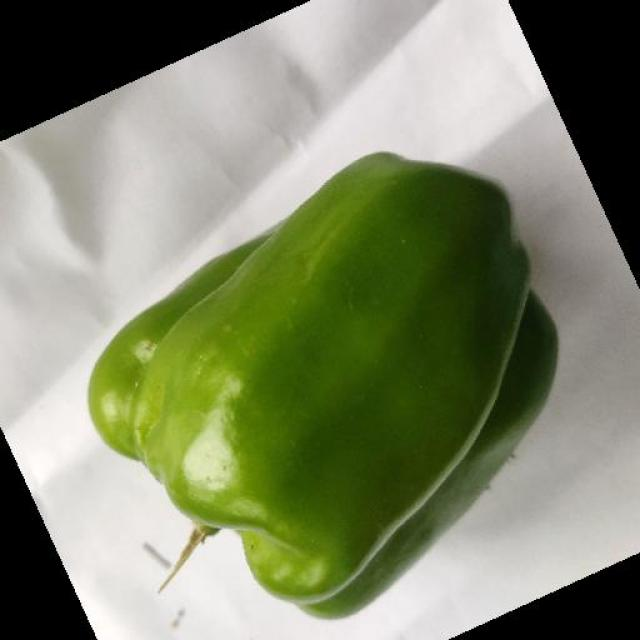Fresh_Capsicum: (87, 192, 528, 566)
